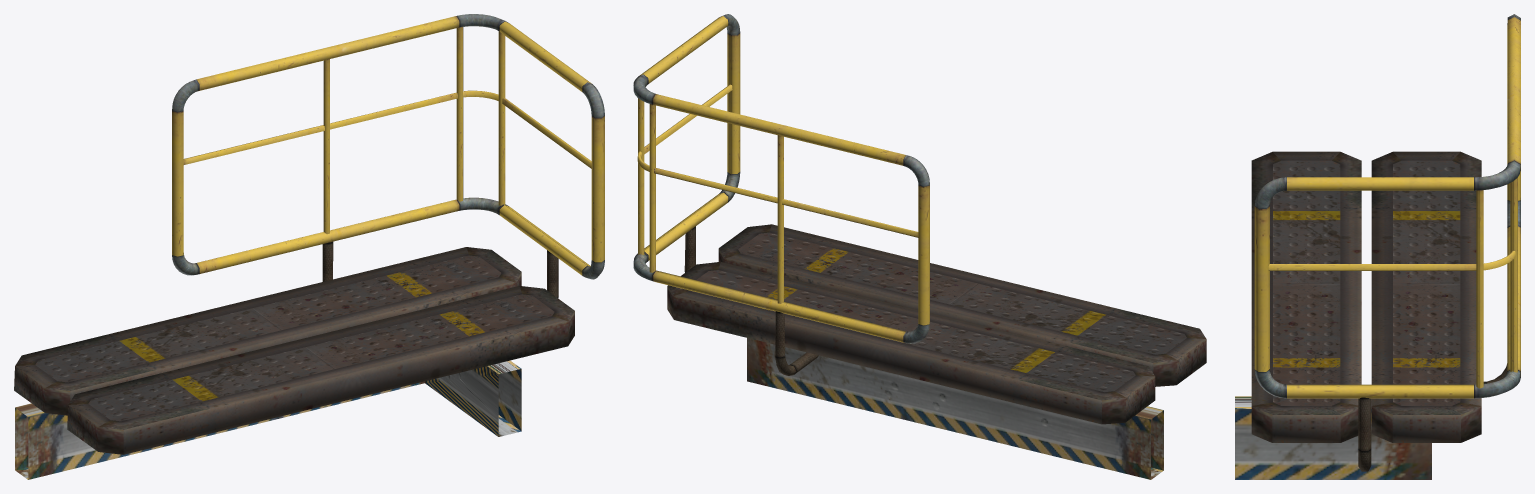
The model's file is FLO_Walkway_EdgeLeft_1m.FBX.
3 renders of one model, left to right at view 1: azimuth 30°, elevation 25°; view 2: azimuth 150°, elevation 25°; view 3: azimuth 270°, elevation 25°, orthographic. The views are drawn at different scales.
Visible parts, largest first — view 1: FLO_Walkway_EdgeLeft_1m_Plates, FLO_Walkway_EdgeLeft_1m_Banister; view 2: FLO_Walkway_EdgeLeft_1m_Plates, FLO_Walkway_EdgeLeft_1m_Banister; view 3: FLO_Walkway_EdgeLeft_1m_Plates, FLO_Walkway_EdgeLeft_1m_Banister.
Boxes of the visible parts, bbox=[...] form: FLO_Walkway_EdgeLeft_1m_Plates: bbox=[14, 247, 574, 479]; FLO_Walkway_EdgeLeft_1m_Banister: bbox=[172, 14, 604, 297]; FLO_Walkway_EdgeLeft_1m_Plates: bbox=[667, 224, 1206, 479]; FLO_Walkway_EdgeLeft_1m_Banister: bbox=[633, 14, 929, 375]; FLO_Walkway_EdgeLeft_1m_Plates: bbox=[1235, 151, 1481, 479]; FLO_Walkway_EdgeLeft_1m_Banister: bbox=[1254, 14, 1520, 471].
Size of the model in its own units: 269 by 156 by 115.
2 materials, 2 textured.
